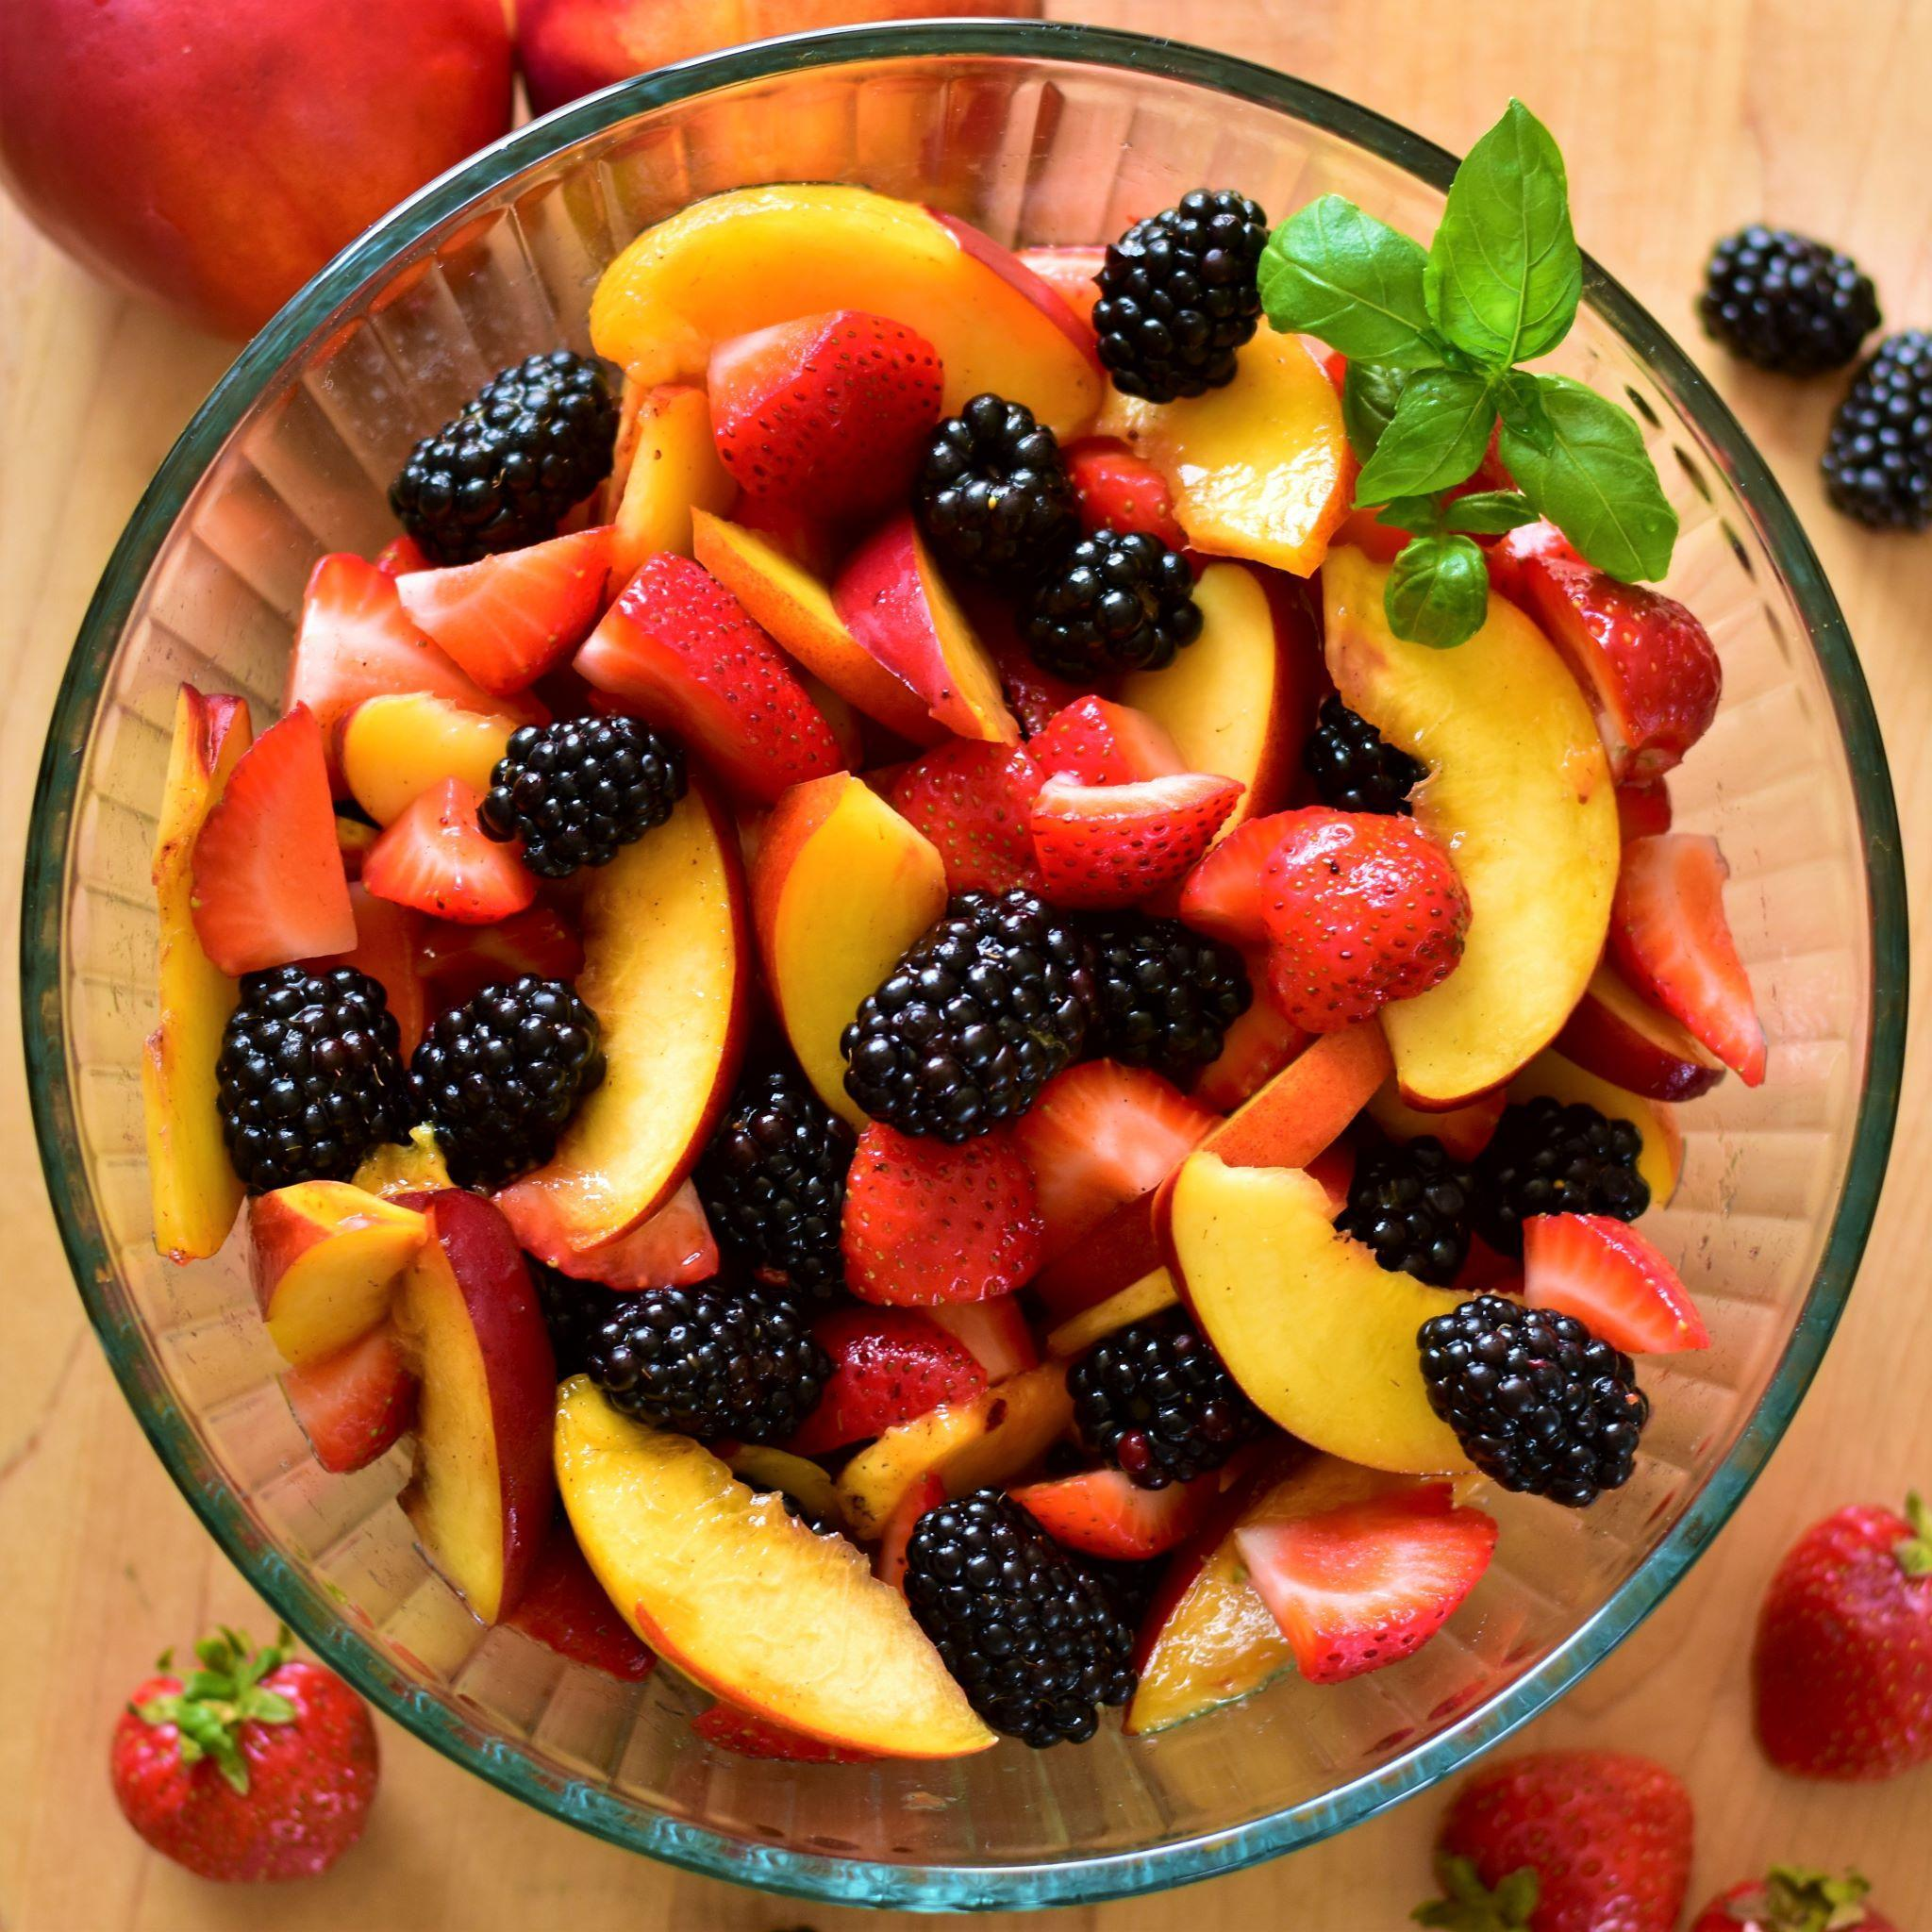apple: (2, 4, 540, 343), (566, 1382, 1005, 1759), (111, 1628, 382, 1891), (1741, 1491, 1928, 1790), (513, 2, 722, 115)
